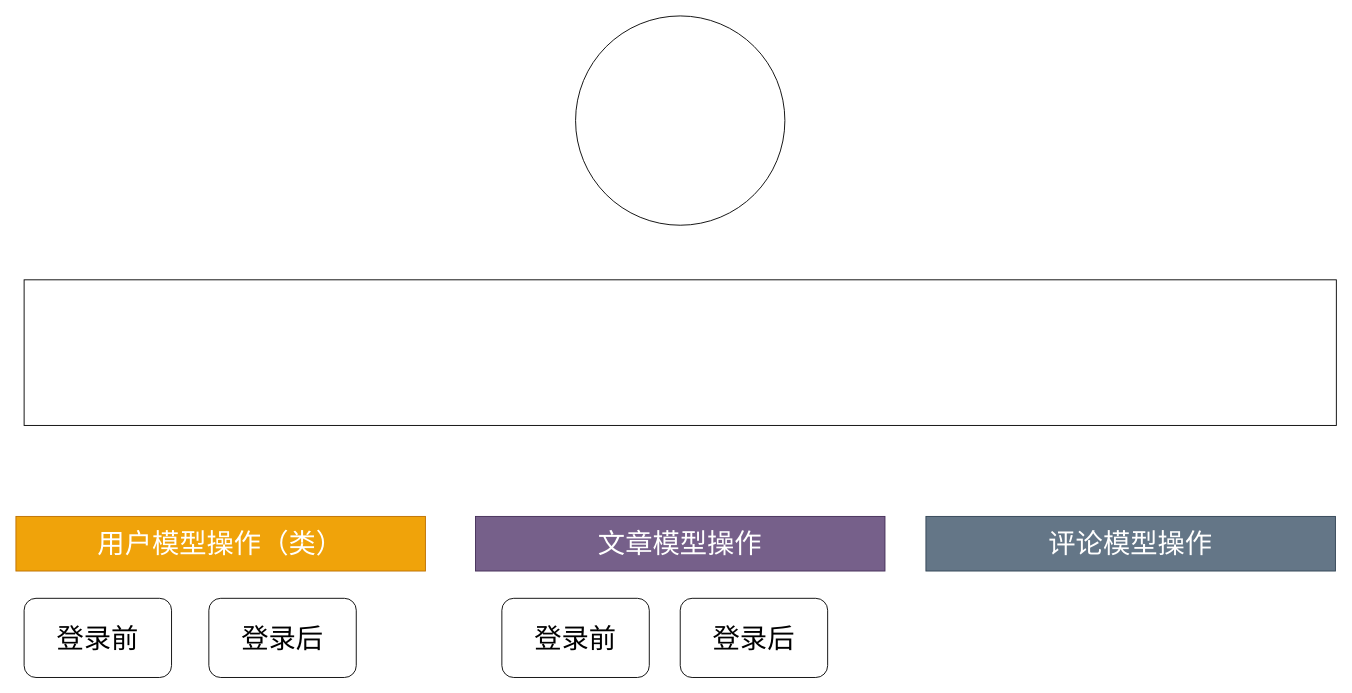
Image size: 1352x693. Some labels were removed from this diagram. Each missing label, with the centre of its shape:
【拦截器】我验证一下你到底能不能够获得访问权限: point 679,352
用户: point 680,120
